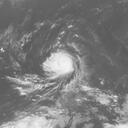cyclone: (42, 51, 75, 77)
